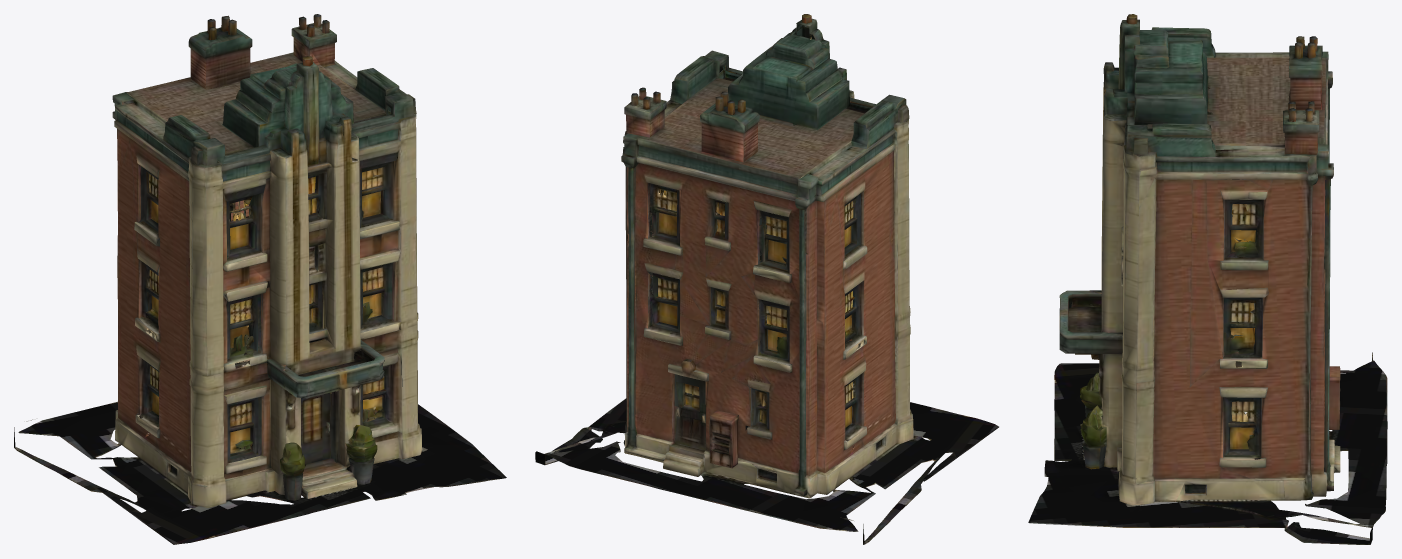
File: candidate.glb
3 views of the same model, side by side, from view 1: azimuth 30°, elevation 25°; view 2: azimuth 150°, elevation 25°; view 3: azimuth 270°, elevation 25° (orthographic). The views are drawn at different scales.
Visible parts, largest first — view 1: expansion__tower_3__native_mobile; view 2: expansion__tower_3__native_mobile; view 3: expansion__tower_3__native_mobile.
Boxes of the visible parts, left/top/right/bottom form: expansion__tower_3__native_mobile: left=14, top=14, right=506, bottom=544; expansion__tower_3__native_mobile: left=535, top=14, right=998, bottom=544; expansion__tower_3__native_mobile: left=1028, top=14, right=1387, bottom=544.
Size of the model in its own units: 0.8482 by 1 by 0.7327.
Materials: 1 (1 with a texture image).
